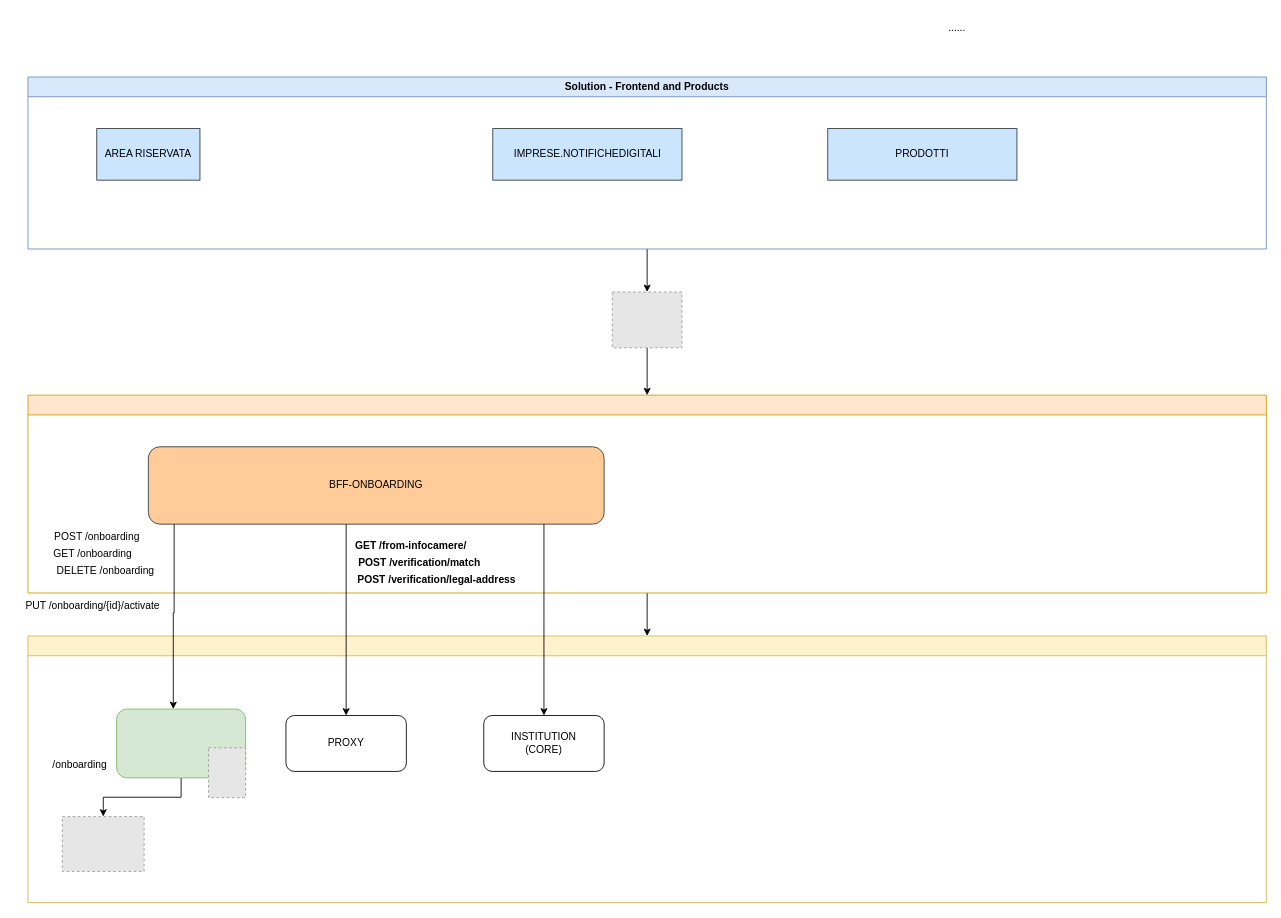
The diagram is 1281 pixels wide and 918 high, and some of its shapes have lost their labels. Grey dashed boxes stand in for pictures. The shapes that lost their labels are listed below. From the top down, each one's box as (x1, y1, x2, y2) in pixels, then its label:
(27, 394, 1266, 593): BFF - Data governance, Orchestrator and Choreography
(116, 708, 246, 778): ONBOARDING
(27, 635, 1266, 903): Data Domain - CRUD and Business Logic
